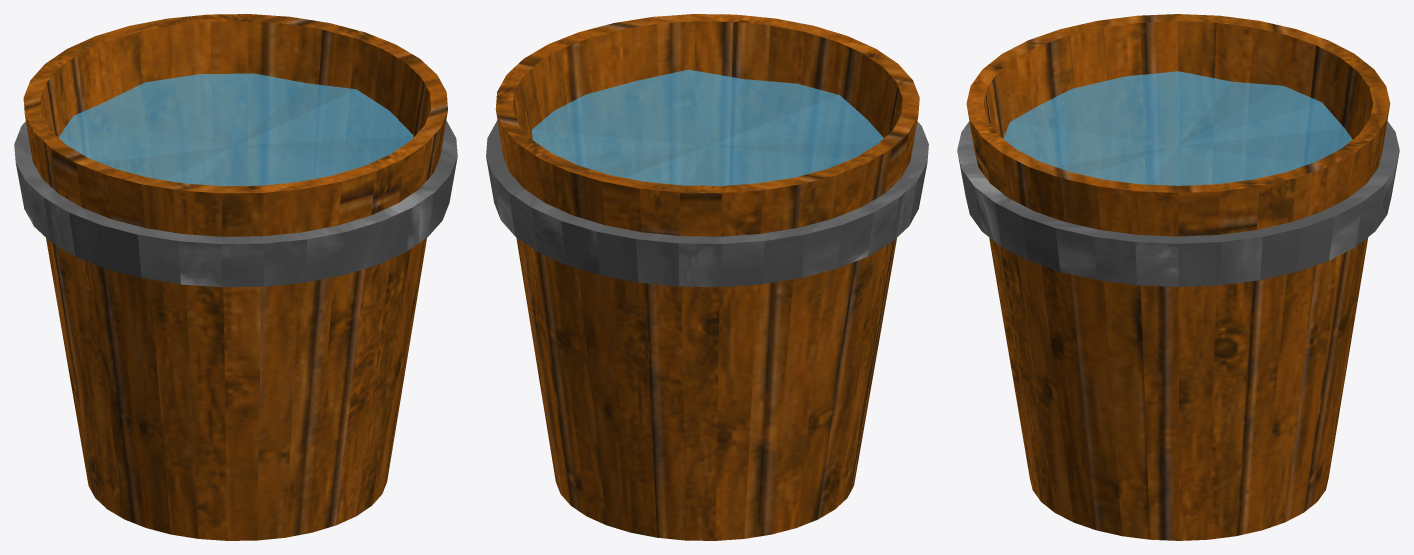
Rendered from BucketWater.glb.
The picture shows the model from 3 angles, left to right: view 1: azimuth 30°, elevation 25°; view 2: azimuth 150°, elevation 25°; view 3: azimuth 270°, elevation 25°; orthographic projection.
Parts seen in each view (by area): view 1: Bucket2, BucketWater_Surface; view 2: Bucket2, BucketWater_Surface; view 3: Bucket2, BucketWater_Surface.
Boxes of the visible parts, bbox=[...] form: Bucket2: bbox=[14, 14, 457, 540]; BucketWater_Surface: bbox=[58, 73, 413, 186]; Bucket2: bbox=[486, 14, 928, 540]; BucketWater_Surface: bbox=[532, 69, 883, 185]; Bucket2: bbox=[957, 14, 1399, 540]; BucketWater_Surface: bbox=[1003, 71, 1352, 185].
Size of the model in its own units: 0.6525 by 0.6071 by 0.6525.
Materials: 3 (2 with a texture image).
